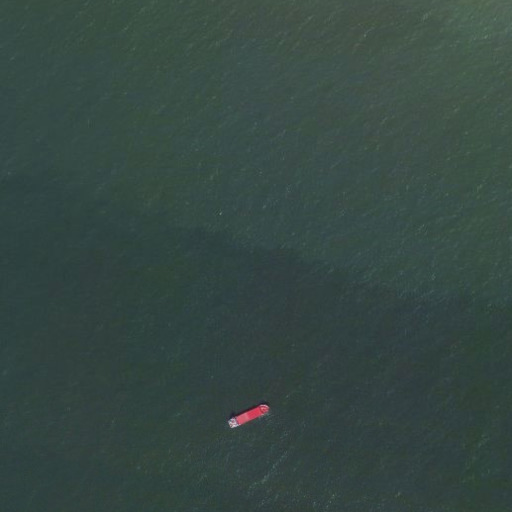ship: (226, 401, 272, 431)
